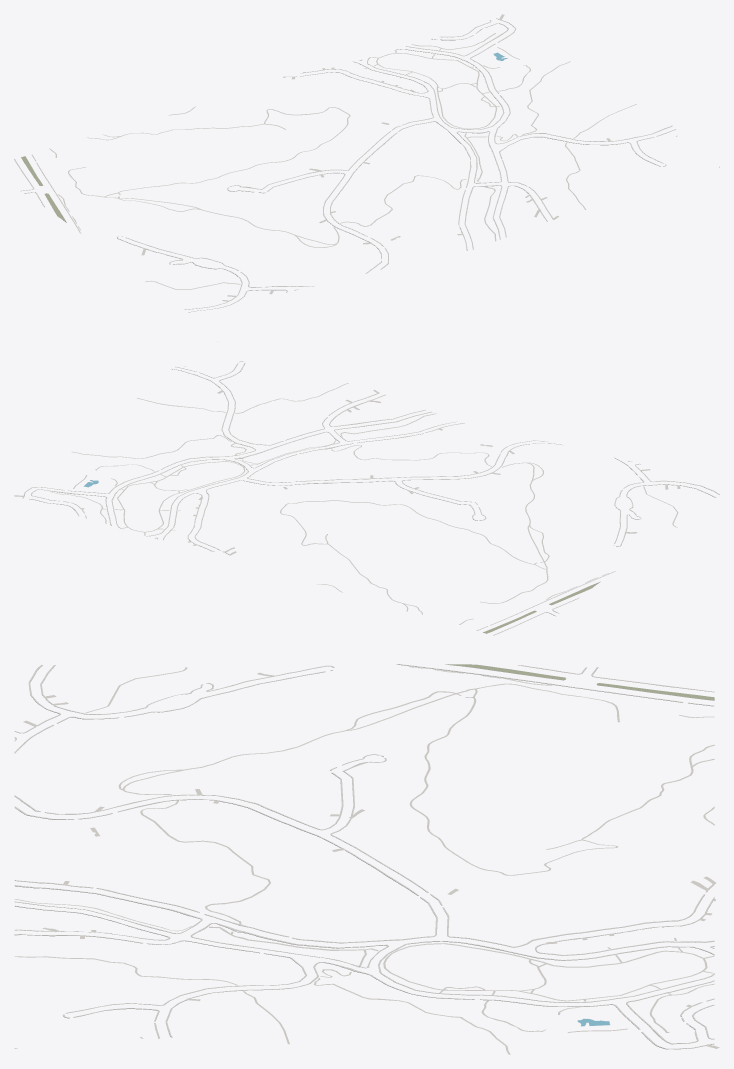
Rendered from ground_r7_c1.glb.
The picture shows the model from 3 angles, top to bottom: view 1: azimuth 30°, elevation 25°; view 2: azimuth 150°, elevation 25°; view 3: azimuth 270°, elevation 25°; orthographic projection. The views are drawn at different scales.
Visible parts, largest first — view 1: sidewalks, paths; view 2: sidewalks, paths; view 3: sidewalks, paths, driveways, medians.
Boxes of the visible parts, bbox=[...] form: sidewalks: bbox=[14, 18, 719, 312]; paths: bbox=[49, 33, 636, 289]; sidewalks: bbox=[23, 341, 719, 635]; paths: bbox=[51, 383, 678, 624]; sidewalks: bbox=[14, 664, 714, 1049]; paths: bbox=[14, 666, 714, 1054]; driveways: bbox=[14, 672, 719, 1048]; medians: bbox=[447, 664, 714, 700].
Bounding box in the file's own units: 1126 × 67.79 × 794.
